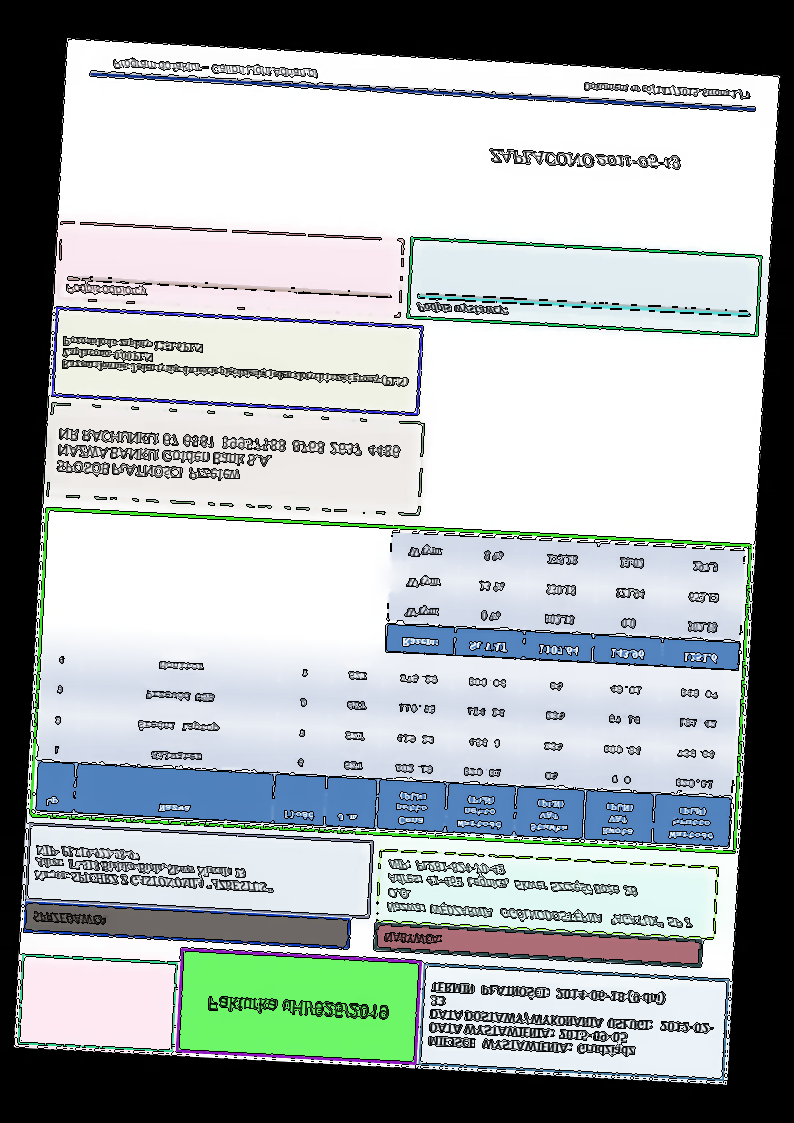Table: (33, 637, 739, 850), (384, 529, 746, 672)
TextBox: (426, 978, 719, 1064), (54, 423, 402, 494), (383, 855, 698, 932), (59, 334, 412, 390), (32, 842, 277, 896), (487, 142, 682, 177), (111, 54, 320, 84), (205, 992, 392, 1023), (582, 79, 752, 103), (414, 297, 510, 321), (63, 280, 149, 301), (29, 909, 113, 930), (381, 928, 443, 948)
